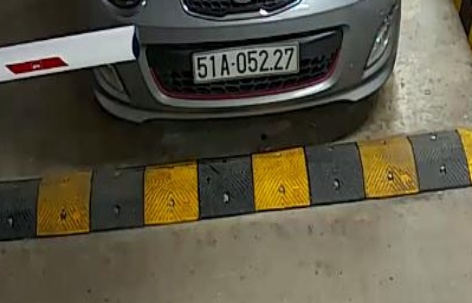plate: (188, 42, 302, 90)
